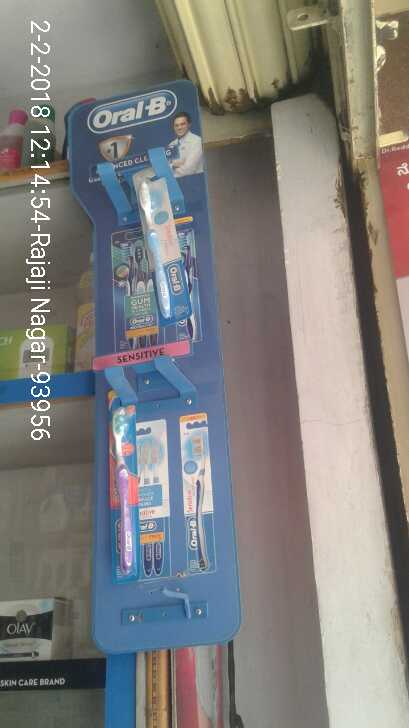oralb: (129, 173, 189, 320), (100, 399, 146, 582)
